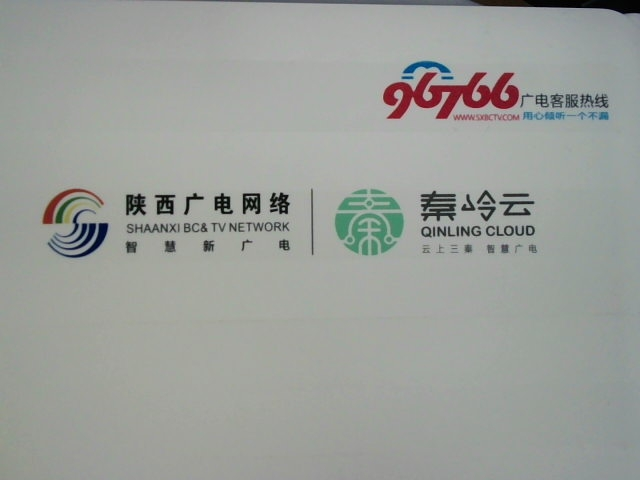AE_QinLing: (332, 180, 546, 262)
